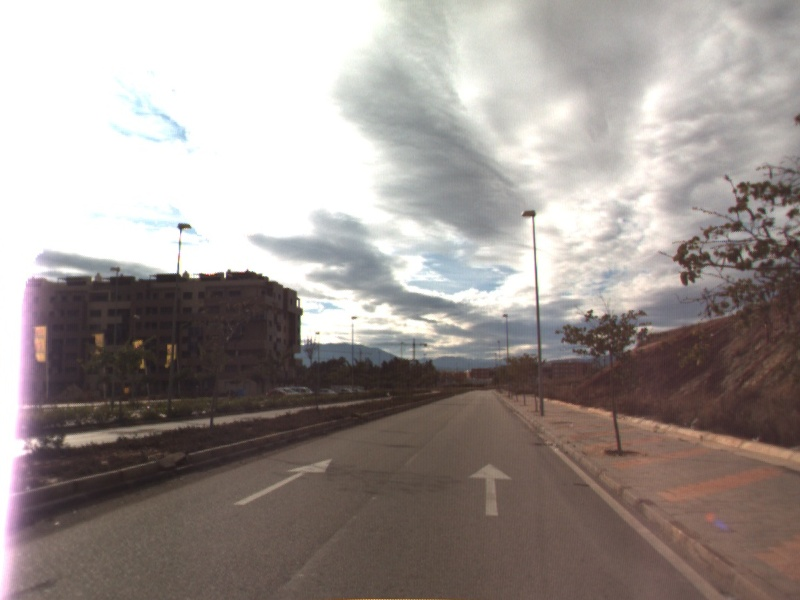STRAIGHT: (232, 456, 335, 507), (466, 461, 515, 518)
